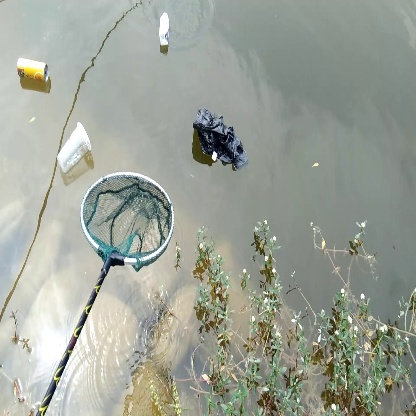bottle: (54, 117, 94, 180), (14, 54, 52, 86)
plastic-bag: (190, 105, 253, 173)
